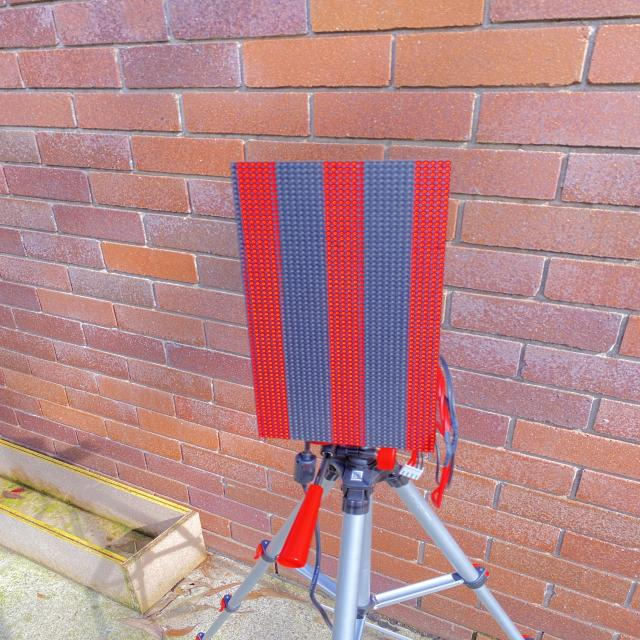matrix: (230, 157, 448, 449)
